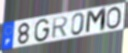0: (71, 13, 86, 37)
8: (17, 22, 32, 46)
G: (33, 18, 51, 43)
M: (85, 7, 108, 35)
O: (105, 6, 122, 30)
R: (51, 16, 70, 40)
